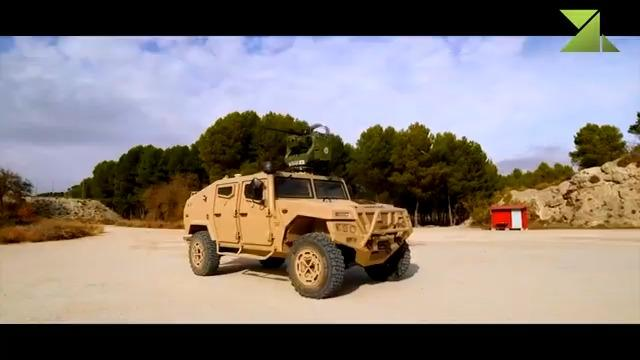MIL_HMMWV: (182, 167, 414, 301)
